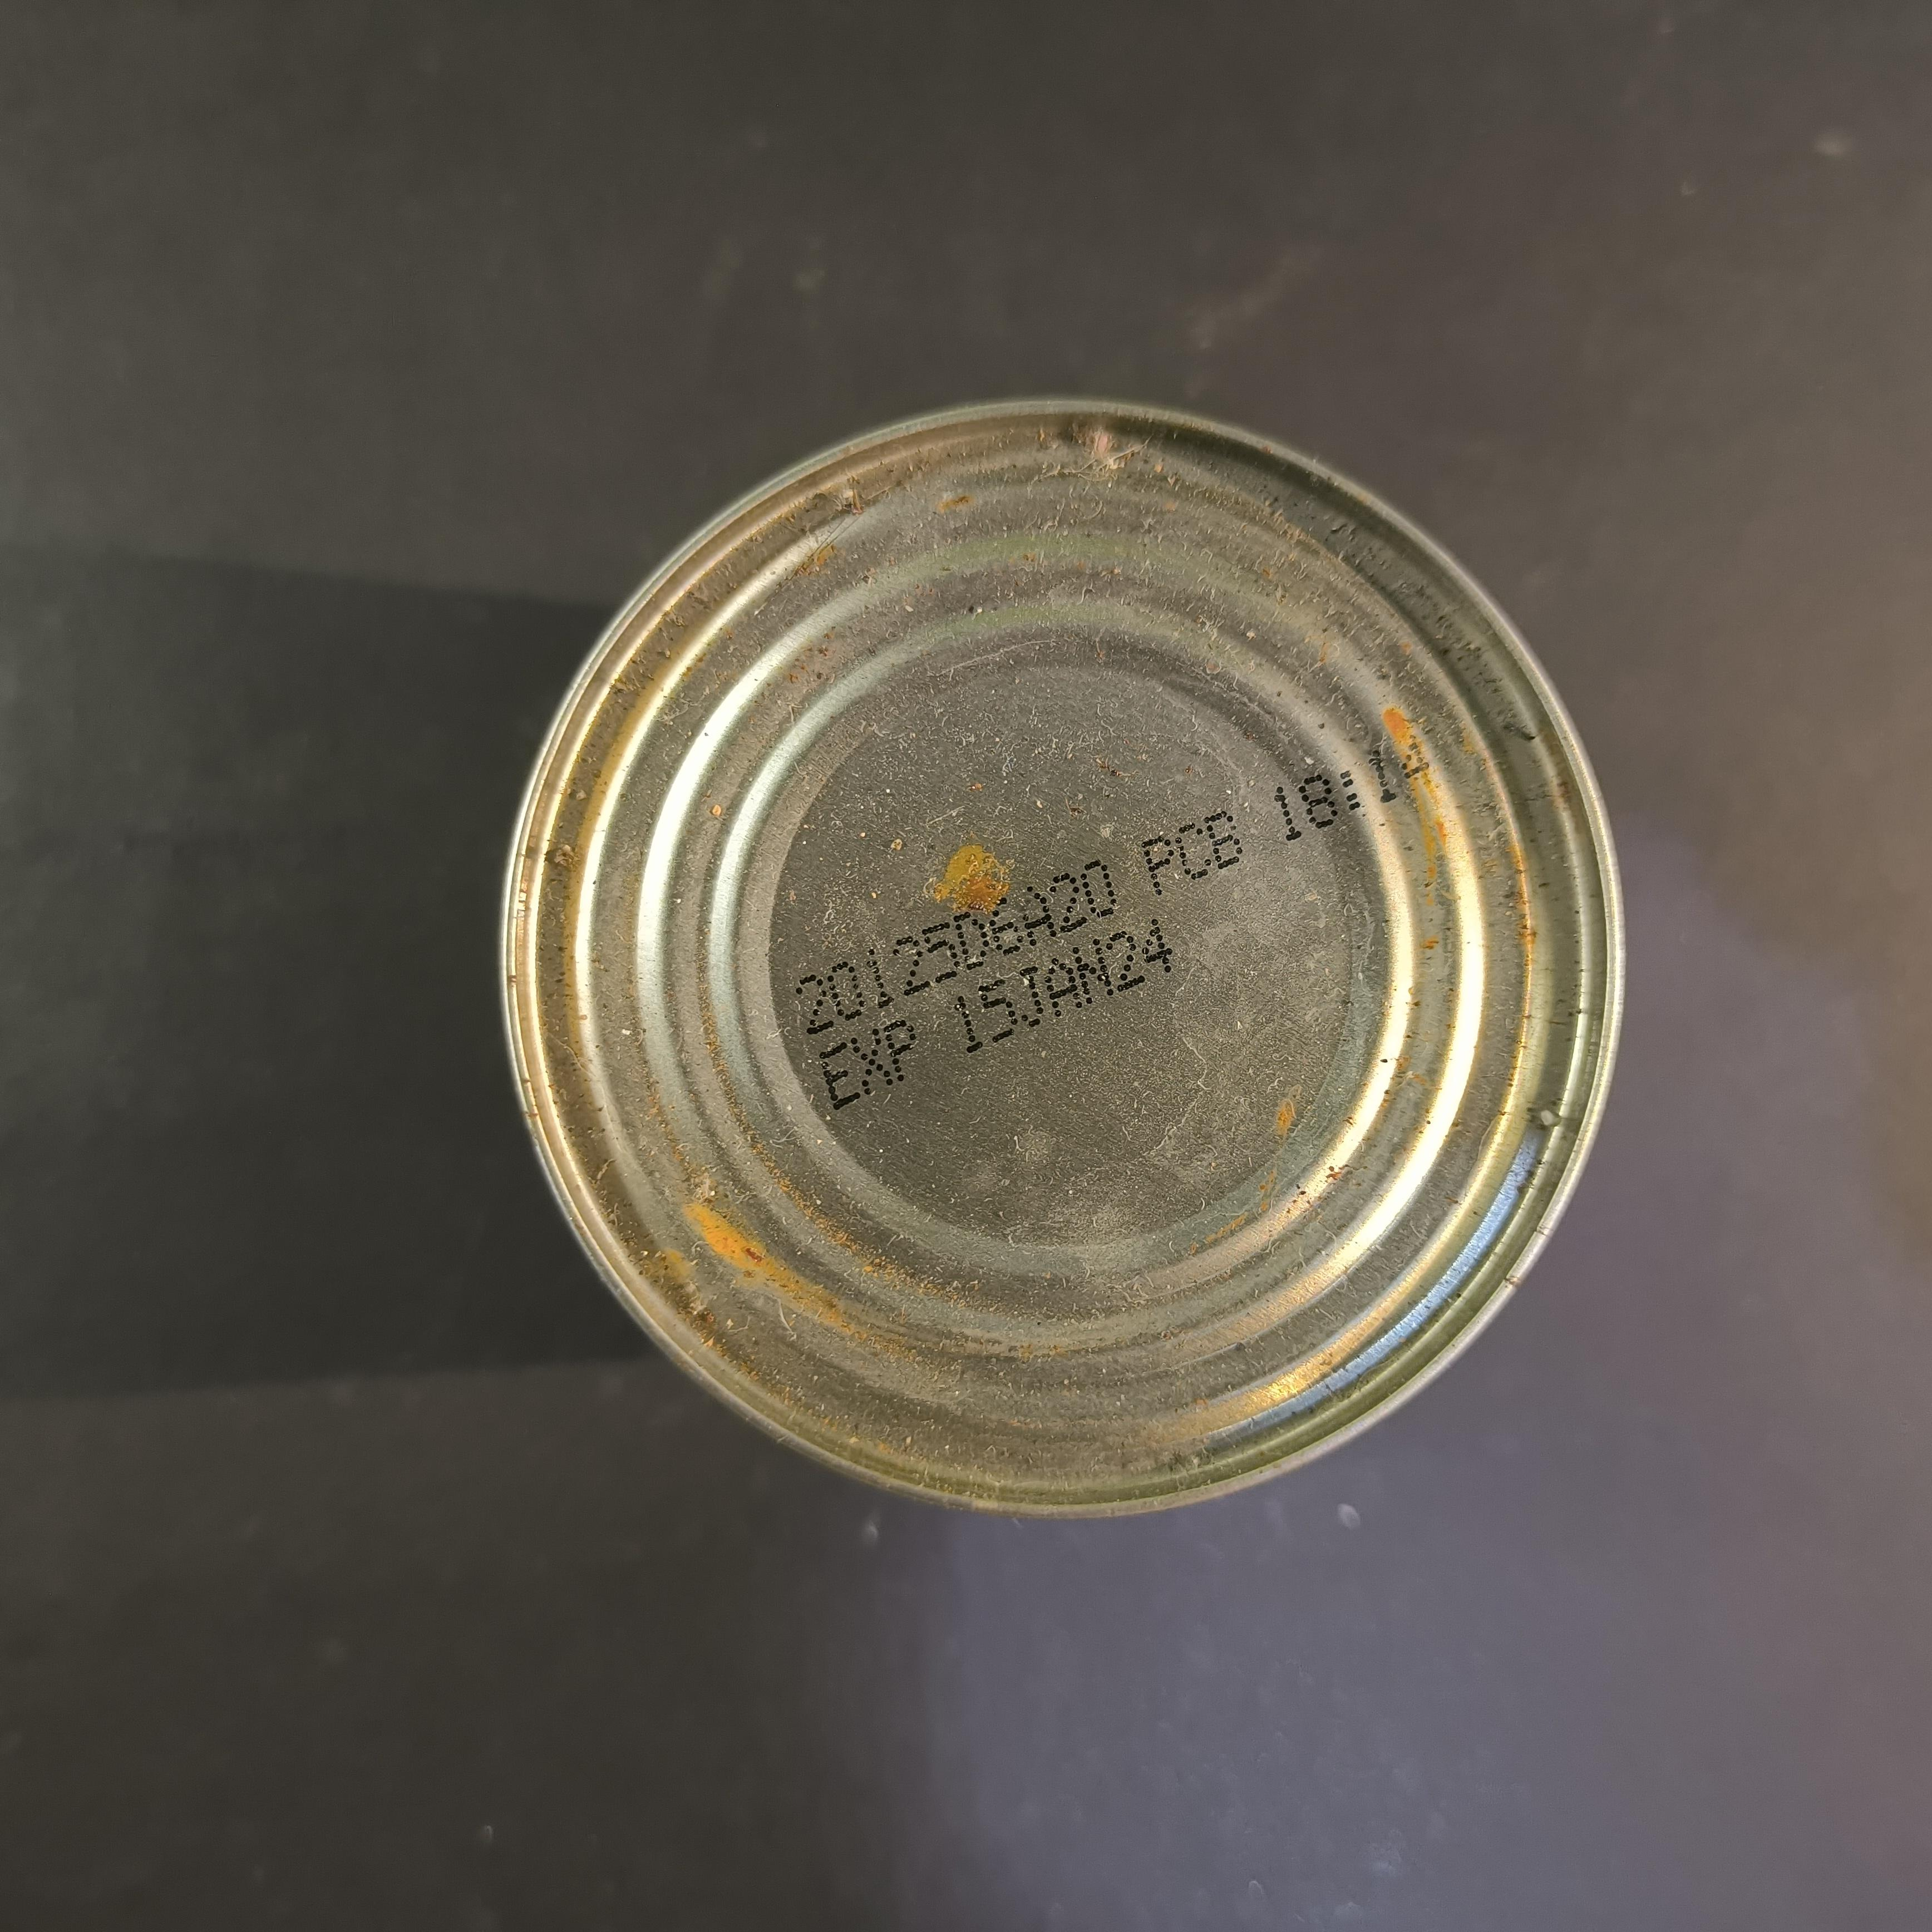Minor Defect: (496, 392, 1631, 1522)
